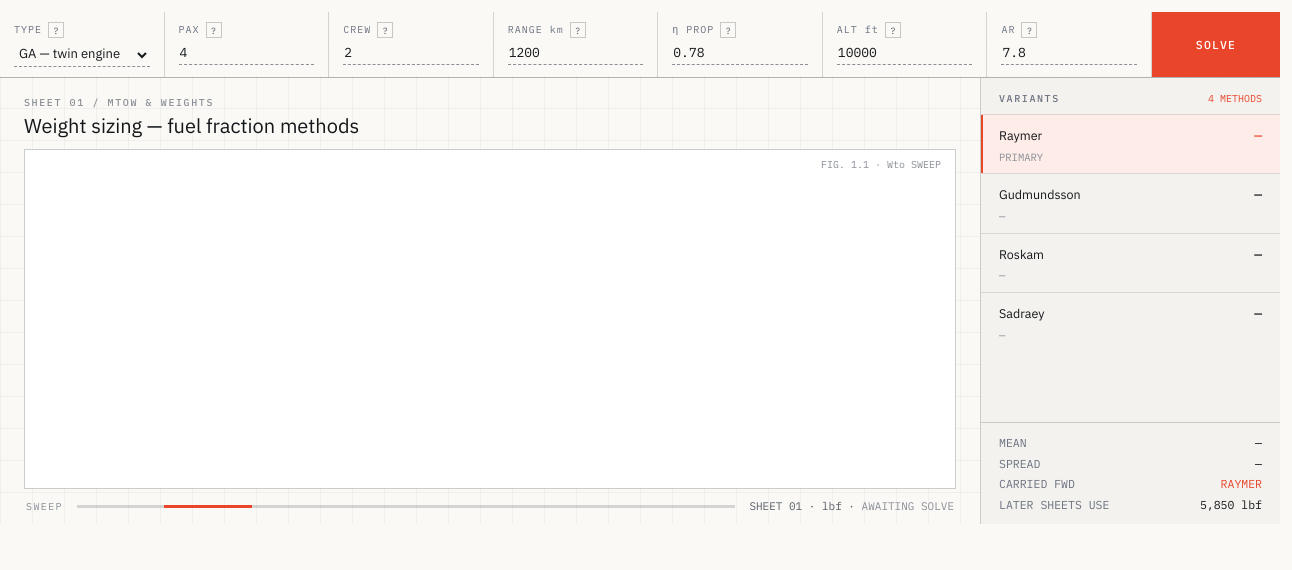
Test: empty numeric values are explained and do not submit
Step 1. Clear the number field with id "range" → (576, 54), box [508,44,643,65]
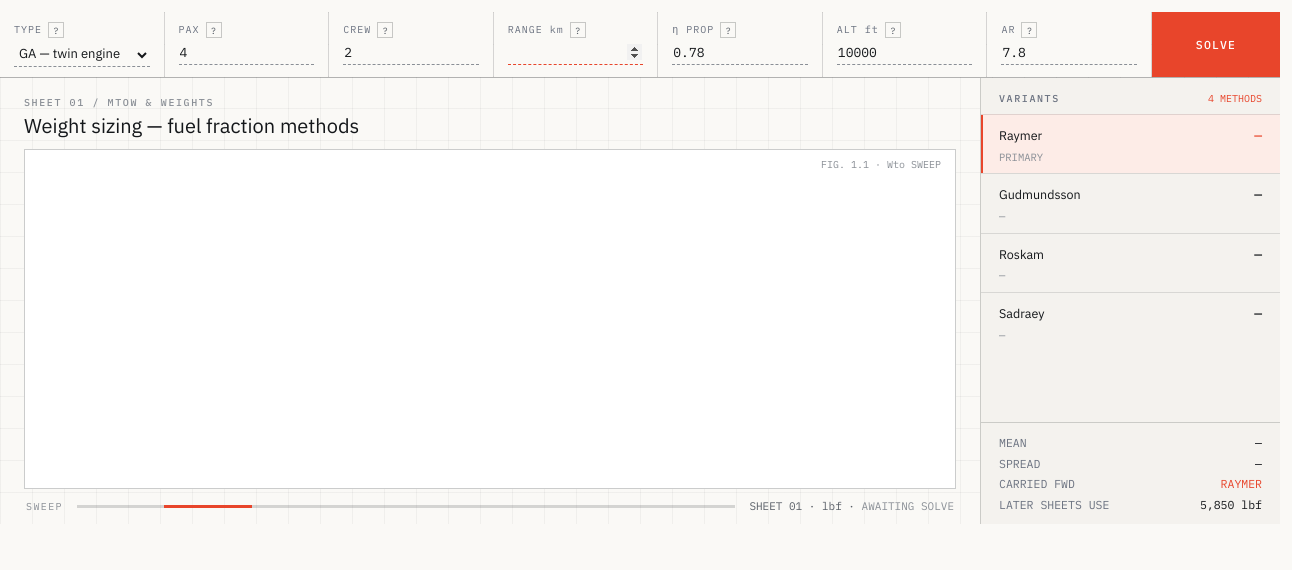
Step 2. Click the button "SOLVE" → (1216, 44), box [1152,12,1280,77]
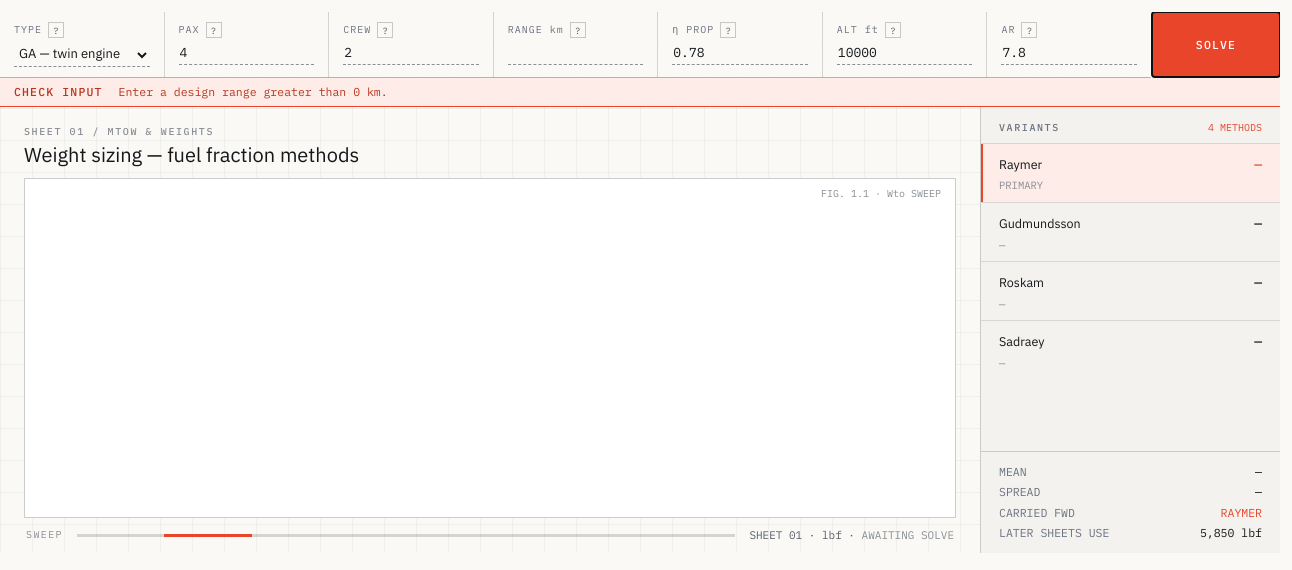
Check: the text "Enter a design range greater than 0 km." is shown, box [119,86,388,98]
